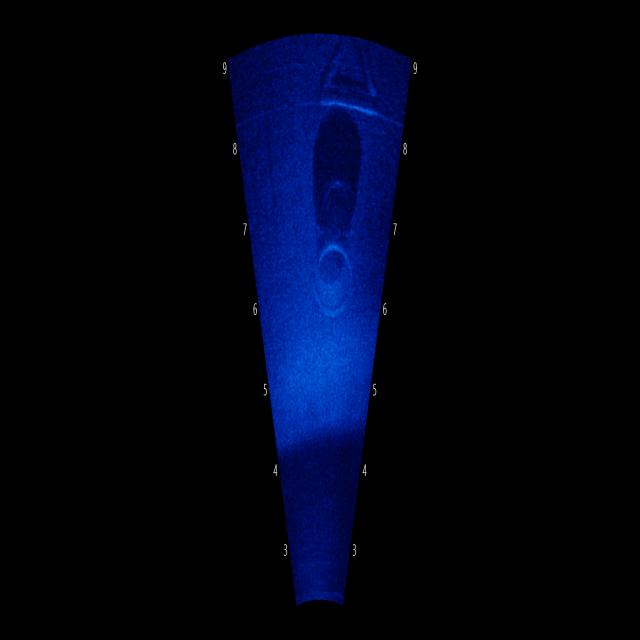circle: (299, 219, 359, 326)
